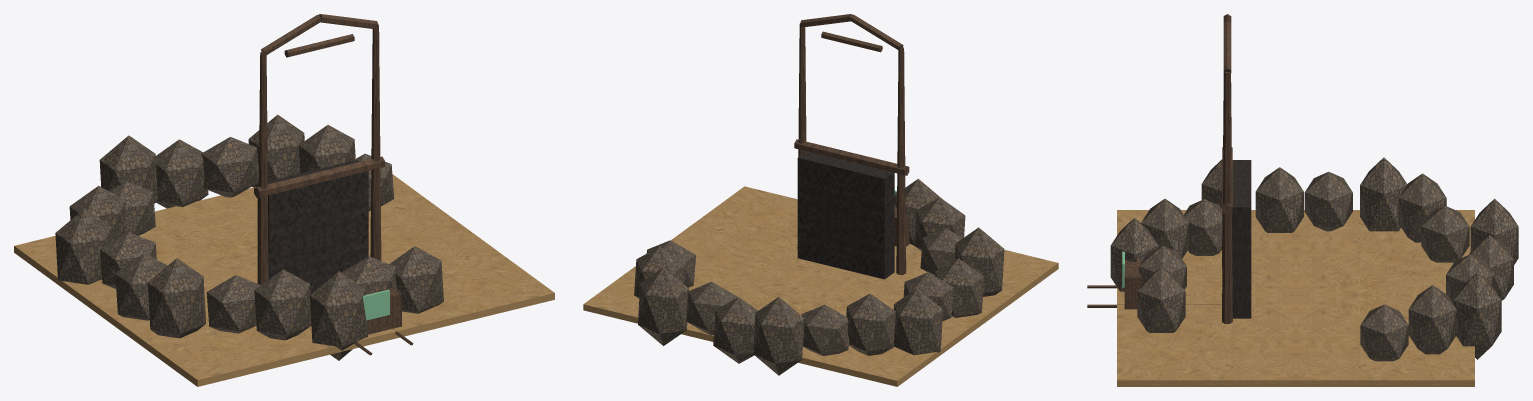
File: edificio-mine-e0-BnNcOk4K.glb
The picture shows the model from 3 angles, left to right: view 1: azimuth 30°, elevation 25°; view 2: azimuth 150°, elevation 25°; view 3: azimuth 270°, elevation 25°; orthographic projection. The views are drawn at different scales.
Parts seen in each view (by area): view 1: edificio-mine-e0_detalles, edificio-mine-e0_envolvente, edificio-mine-e0_team_color; view 2: edificio-mine-e0_detalles, edificio-mine-e0_envolvente; view 3: edificio-mine-e0_detalles, edificio-mine-e0_envolvente.
Boxes of the visible parts, bbox=[...] form: edificio-mine-e0_detalles: bbox=[14, 14, 554, 386]; edificio-mine-e0_envolvente: bbox=[55, 114, 443, 360]; edificio-mine-e0_team_color: bbox=[362, 289, 389, 320]; edificio-mine-e0_detalles: bbox=[583, 14, 1058, 386]; edificio-mine-e0_envolvente: bbox=[634, 178, 1004, 375]; edificio-mine-e0_detalles: bbox=[1087, 14, 1474, 386]; edificio-mine-e0_envolvente: bbox=[1110, 157, 1518, 361].
Bounding box in the file's own units: 54.43 × 44.05 × 57.87.
Materials: 3 (2 with a texture image).
